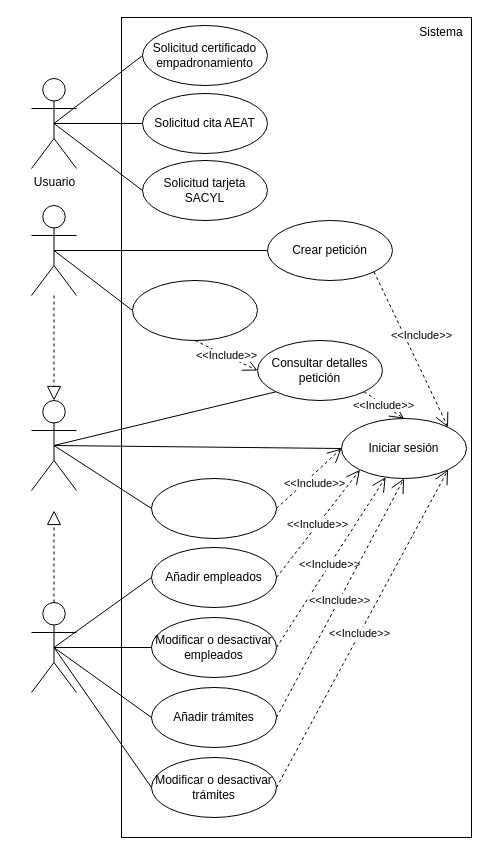
This 489x863 diagram has some shape labels left out. Each missing label, with the centre of its shape:
"Administrador" belongs at point 53,647.
"Consultar datos personales y cambiar contraseña" belongs at point 213,508.
"Empleado" belongs at point 53,445.
"Petición revisable" belongs at point 195,310.
"Secretario" belongs at point 53,250.
